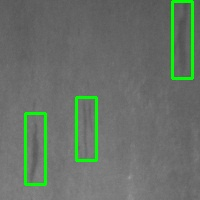inclusion: (172, 1, 192, 78), (25, 113, 45, 184), (76, 97, 96, 160)
